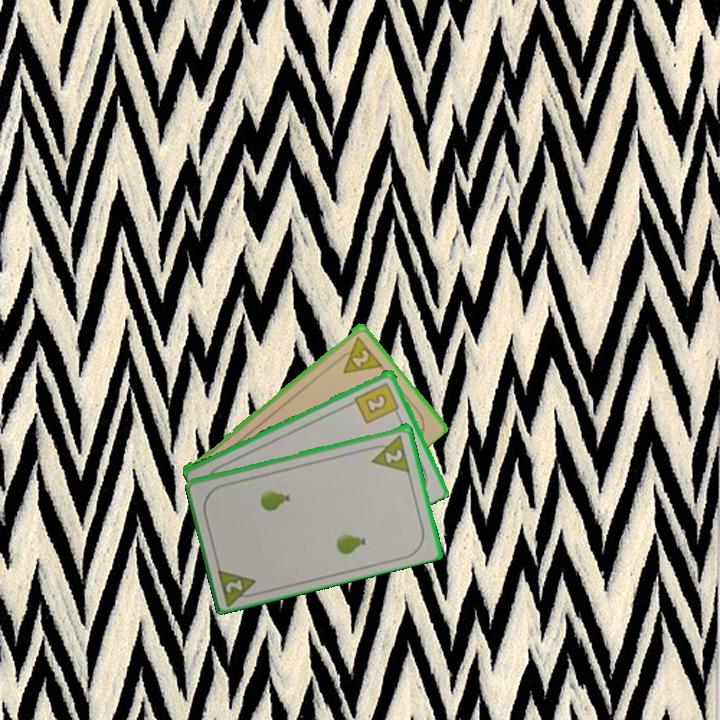2b: (351, 379, 402, 426)
2p: (332, 333, 384, 376), (214, 563, 263, 607), (365, 431, 413, 474)
